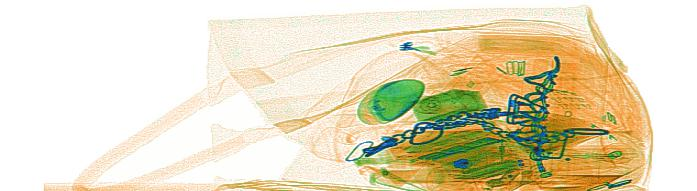plasticBottleWithaNozzle: (531, 135, 648, 189)
